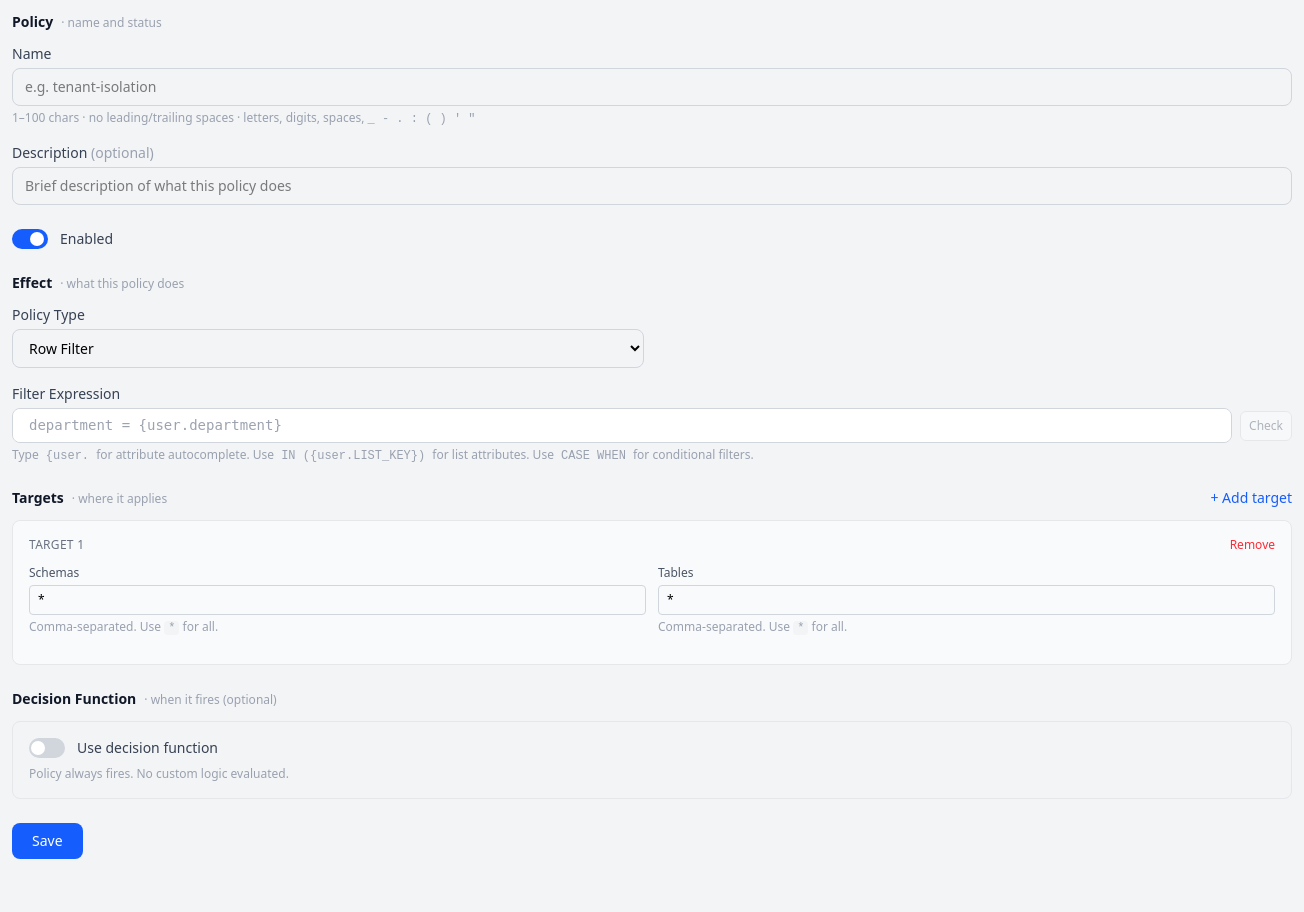
Test: PolicyForm — policy type selector › shows deny note when column_deny is selected
This screenshot has width=1304, height=912.
Select "Column Deny" in the dropdown at (328, 348), box [12,329,644,368]
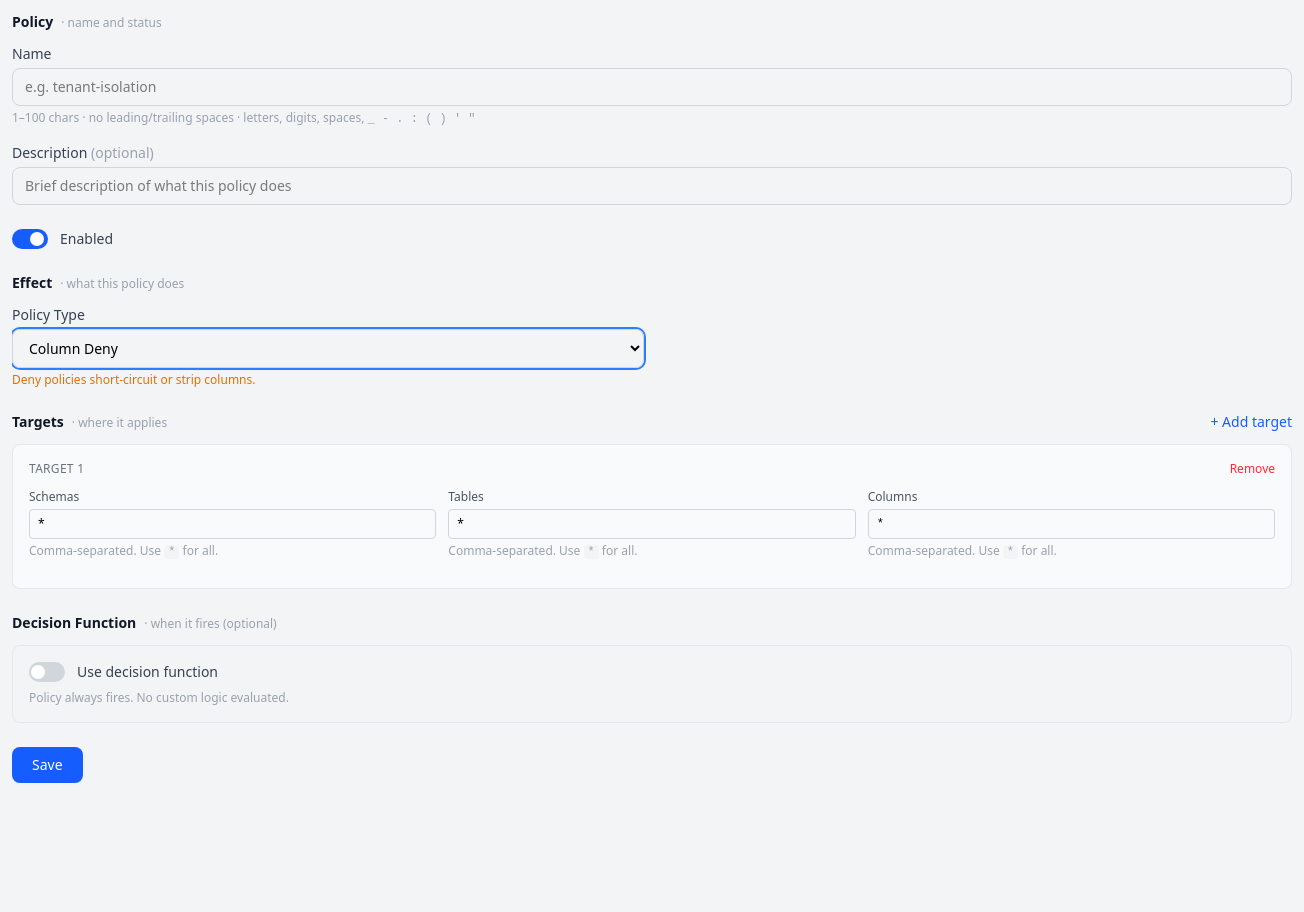
Check: the text "Deny policies short-circuit or strip columns." is shown, box [12,371,256,388]
